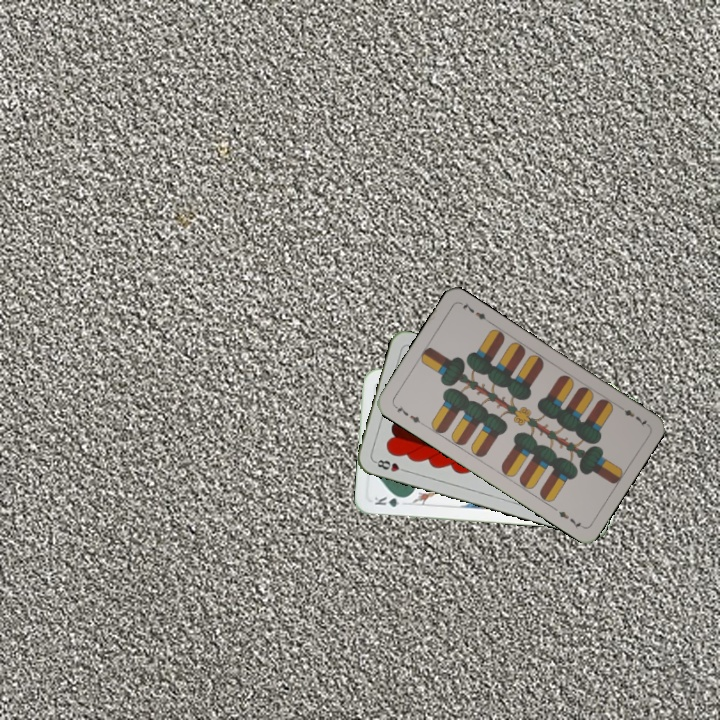E7: (614, 401, 651, 430), (390, 401, 427, 428)
GK: (370, 492, 410, 510)
H8: (371, 455, 410, 475)
